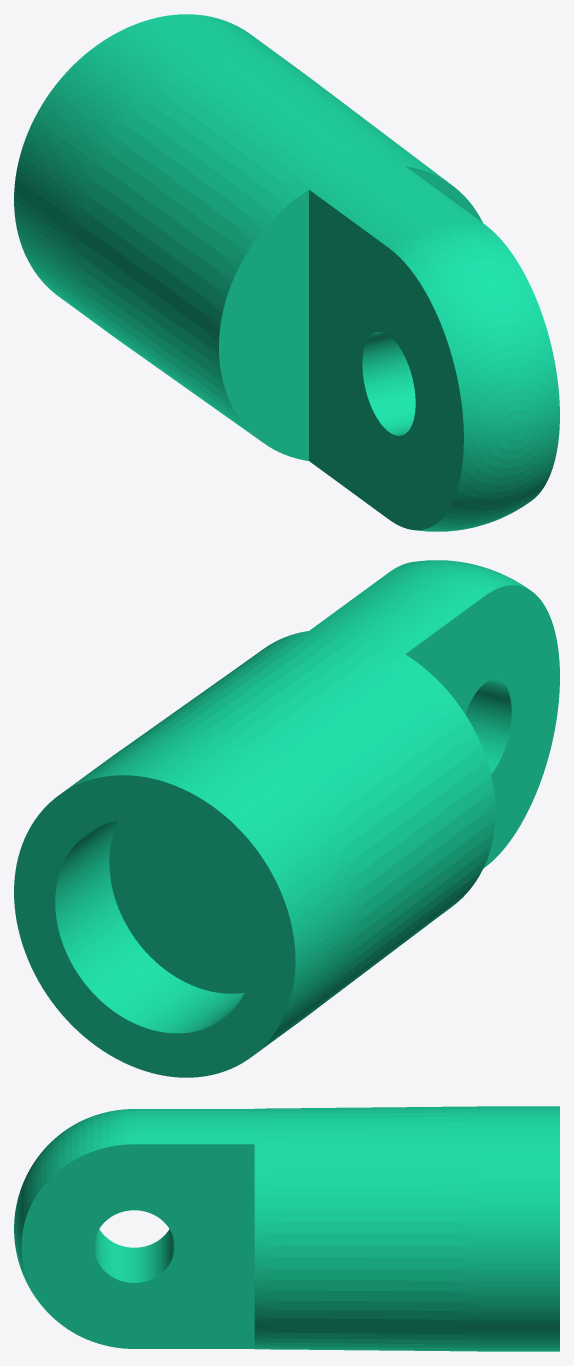
3 renders of one model, top to bottom at view 1: azimuth 30°, elevation 25°; view 2: azimuth 150°, elevation 25°; view 3: azimuth 270°, elevation 25°, orthographic. The views are drawn at different scales.
Parts seen in each view (by area): view 1: node; view 2: node; view 3: node.
Part boxes in pixels (bbox=[...]): node: bbox=[14, 14, 559, 531]; node: bbox=[14, 560, 559, 1077]; node: bbox=[14, 1106, 559, 1351].
Bounding box in the file's own units: 0.0822 × 0.0822 × 0.1832.
